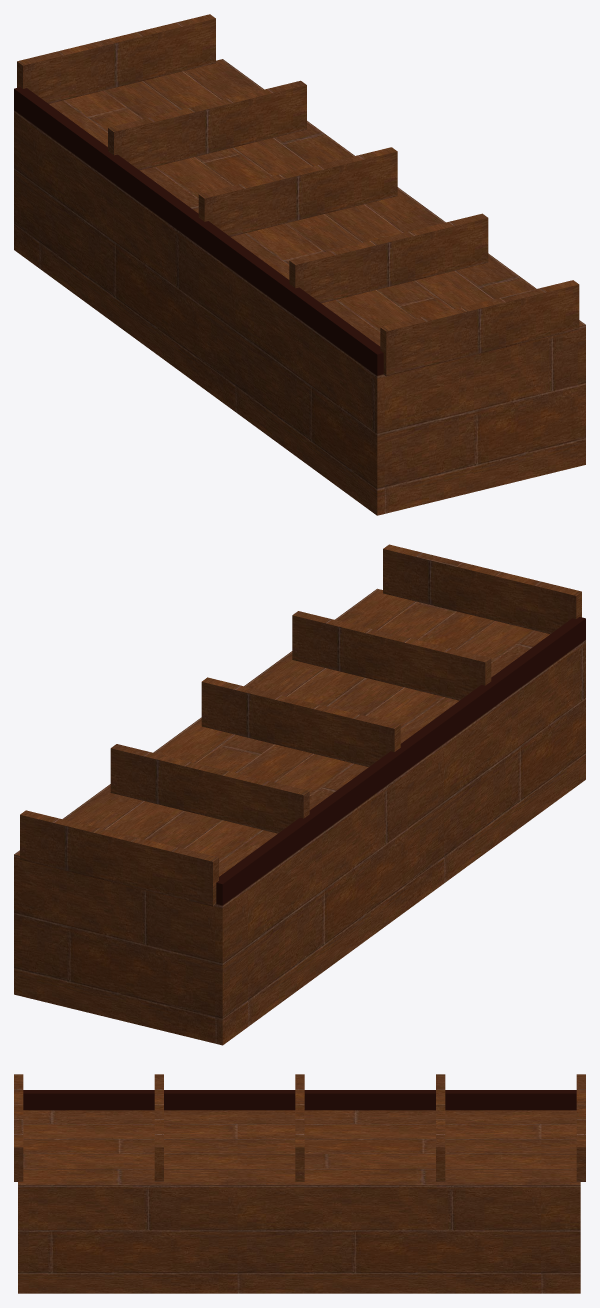
Rendered from huojia10.FBX.
The picture shows the model from 3 angles, top to bottom: view 1: azimuth 30°, elevation 25°; view 2: azimuth 150°, elevation 25°; view 3: azimuth 270°, elevation 25°; orthographic projection. The views are drawn at different scales.
Parts seen in each view (by area): view 1: huojia014; view 2: huojia014; view 3: huojia014.
Boxes of the visible parts, <box> form: huojia014: <box>14,14,585,515</box>; huojia014: <box>14,544,585,1045</box>; huojia014: <box>14,1074,585,1293</box>.
Size of the model in its own units: 141 by 119 by 431.
